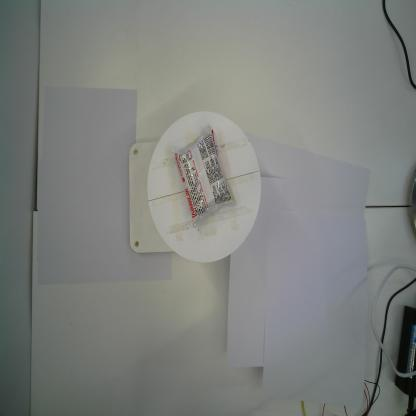Dessert: (171, 124, 236, 229)
